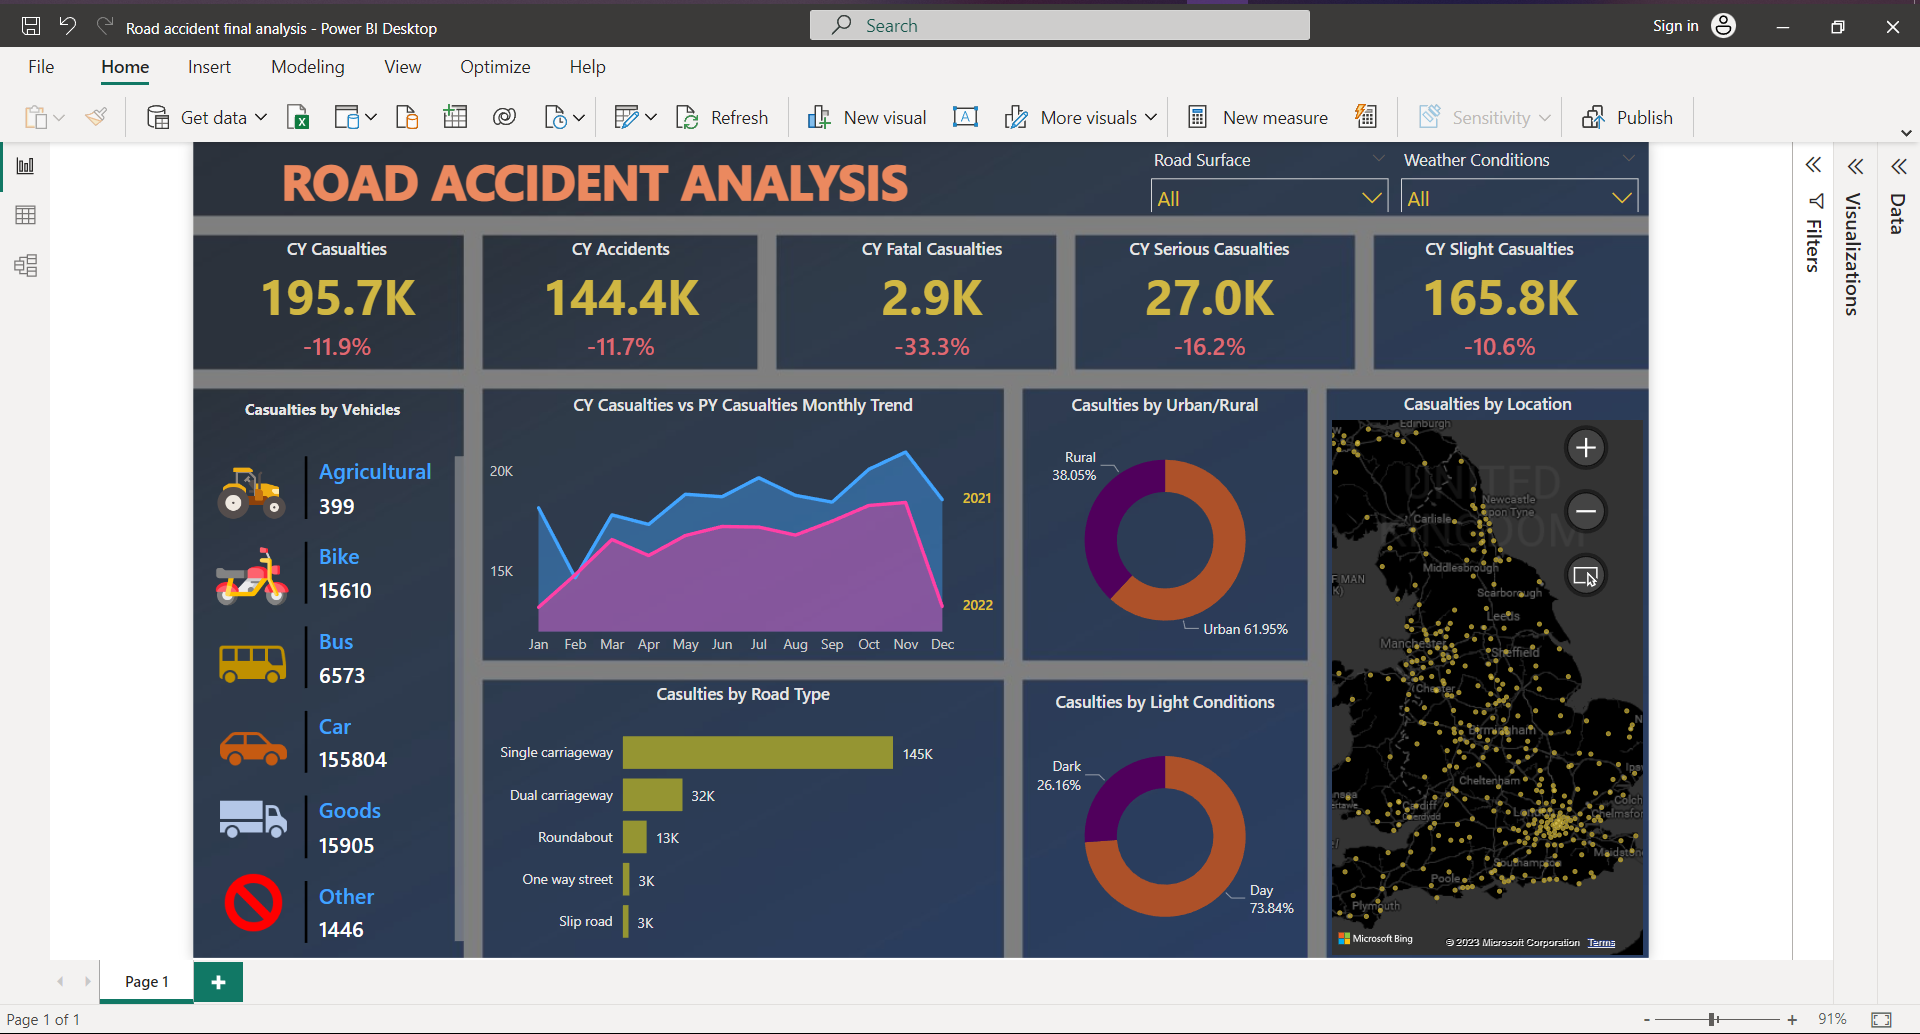

The page's visual inventory and layout, read from the dashboard file:
{"tool":"tableau","page":{"name":"Road accident dashboard","canvas":[1600,900],"ordinal":0},"visuals":[{"type":"image","param":"C:/Users/Administrator/Desktop/Road_accident/Tableau/Background road accident.jp","box":[8,8,1584,884]},{"type":"text","box":[40,32,644,78]},{"type":"parameter","param":"[Parameters].[Parameter 1]","box":[840,33,235,76]},{"type":"parameter","param":"[Parameters].[Current year (copy)_1005710138212483073]","box":[1075,33,235,76]},{"type":"parameter","param":"[Parameters].[Parameter 2]","box":[1310,33,235,76]},{"type":"text","box":[486,136,533,21]},{"type":"worksheet","title":"Total Accident","mark":"Automatic","box":[47,144,205,110]},{"type":"worksheet","title":"Accident Sparkline","mark":"Automatic","rows":["CY Accident (copy)_1005710138213654531","Calculation_1005710138212945922"],"cols":["Accident Date"],"box":[252,144,205,110]},{"type":"worksheet","title":"Vehicle type images","mark":"Shape","box":[496,157,1050,38]},{"type":"worksheet","title":"Vehicle type kpi","mark":"Automatic","box":[496,195,1050,62]},{"type":"worksheet","title":"weather condition","mark":"Pie","rows":["Calculation_978407065821134849","Calculation_978407065821179907"],"box":[492,284,304,284]},{"type":"worksheet","title":"road surface","mark":"Pie","rows":["Calculation_978407065821134849","Calculation_978407065821179907"],"box":[825,284,301,279]},{"type":"worksheet","title":"Casualties by Location","mark":"Automatic","rows":["Latitude"],"cols":["Longitude"],"box":[1154,286,398,574]},{"type":"worksheet","title":"Total Casualties","mark":"Automatic","box":[46,294,207,110]},{"type":"worksheet","title":"Total Casualties Sparkline","mark":"Automatic","rows":["CY Casualties (copy)_1005710138225369094","Calculation_1005710138224488453"],"cols":["Accident Date"],"box":[253,294,202.9,110]},{"type":"worksheet","title":"Fatal Casualties","mark":"Automatic","box":[47,446,205,110]},{"type":"worksheet","title":"Fatal Casualties Sparkline","mark":"Automatic","rows":["CY Fatal Casualties (copy)_1005710138231128075","Calculation_1005710138230161418"],"cols":["Accident Date"],"box":[252,446,205,110]},{"type":"worksheet","title":"Road type","mark":"Automatic","rows":["Road_Type"],"cols":["Calculation_1005710138224488453"],"box":[489,591,638,266]},{"type":"worksheet","title":"Serious Casualties ","mark":"Automatic","box":[47,597,205,110]},{"type":"worksheet","title":"Serious Casualties Sparkline ","mark":"Automatic","rows":["PY Fatal Casualties (copy)_1005710138231758861","CY Fatal Casualties (copy)_1005710138232258574"],"cols":["Accident Date"],"box":[252,597,205,110]},{"type":"worksheet","title":"Slight Casualties","mark":"Automatic","box":[47,746,205,110]},{"type":"worksheet","title":"Slight Casualties Sparkline ","mark":"Automatic","rows":["PY Serious Casualties  (copy)_1005710138233643026","CY Serious Casualties (copy)_1005710138233532433"],"cols":["Accident Date"],"box":[252,746,205,110]}]}

Visuals, with their boxes in screenshot pixels (x1, y1, x2, y2):
image: l=0, t=29, r=1651, b=996
text: l=0, t=55, r=658, b=140
parameter: l=829, t=56, r=1086, b=139
parameter: l=1086, t=56, r=1343, b=139
parameter: l=1343, t=56, r=1600, b=139
text: l=442, t=169, r=1025, b=192
"Total Accident" worksheet: l=0, t=178, r=186, b=298
"Accident Sparkline" worksheet: l=186, t=178, r=410, b=298
"Vehicle type images" worksheet (Shape marks): l=453, t=192, r=1601, b=233
"Vehicle type kpi" worksheet: l=453, t=233, r=1601, b=301
"weather condition" worksheet (Pie marks): l=448, t=331, r=781, b=641
"road surface" worksheet (Pie marks): l=812, t=331, r=1142, b=636
"Casualties by Location" worksheet: l=1172, t=333, r=1608, b=961
"Total Casualties" worksheet: l=0, t=342, r=187, b=462
"Total Casualties Sparkline" worksheet: l=187, t=342, r=409, b=462
"Fatal Casualties" worksheet: l=0, t=508, r=186, b=628
"Fatal Casualties Sparkline" worksheet: l=186, t=508, r=410, b=628
"Road type" worksheet: l=445, t=666, r=1143, b=957
"Serious Casualties " worksheet: l=0, t=673, r=186, b=793
"Serious Casualties Sparkline " worksheet: l=186, t=673, r=410, b=793
"Slight Casualties" worksheet: l=0, t=836, r=186, b=956
"Slight Casualties Sparkline " worksheet: l=186, t=836, r=410, b=956
